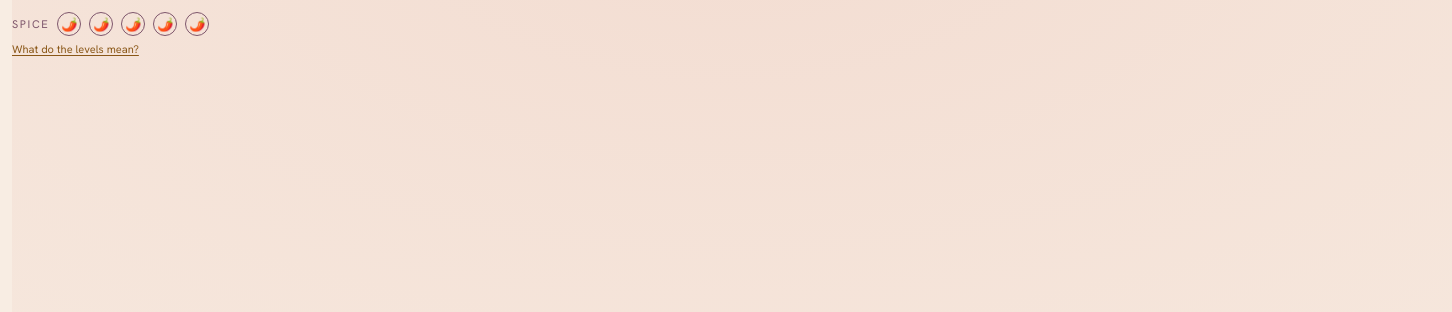
Test: LevelPicker — click pins, and still sets the level › a click sets the value AND pins that level’s guide
This screenshot has width=1452, height=312.
Click the button named "Spice 4 —": (165, 24) top-left (153, 12), bottom-right (177, 36)
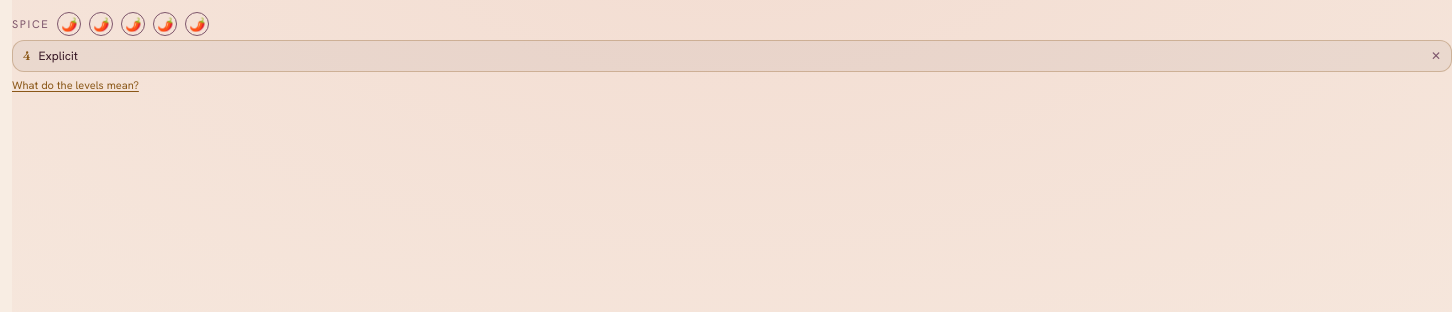
Now the message shows "Explicit", box top-left (39, 48), bottom-right (78, 64)
